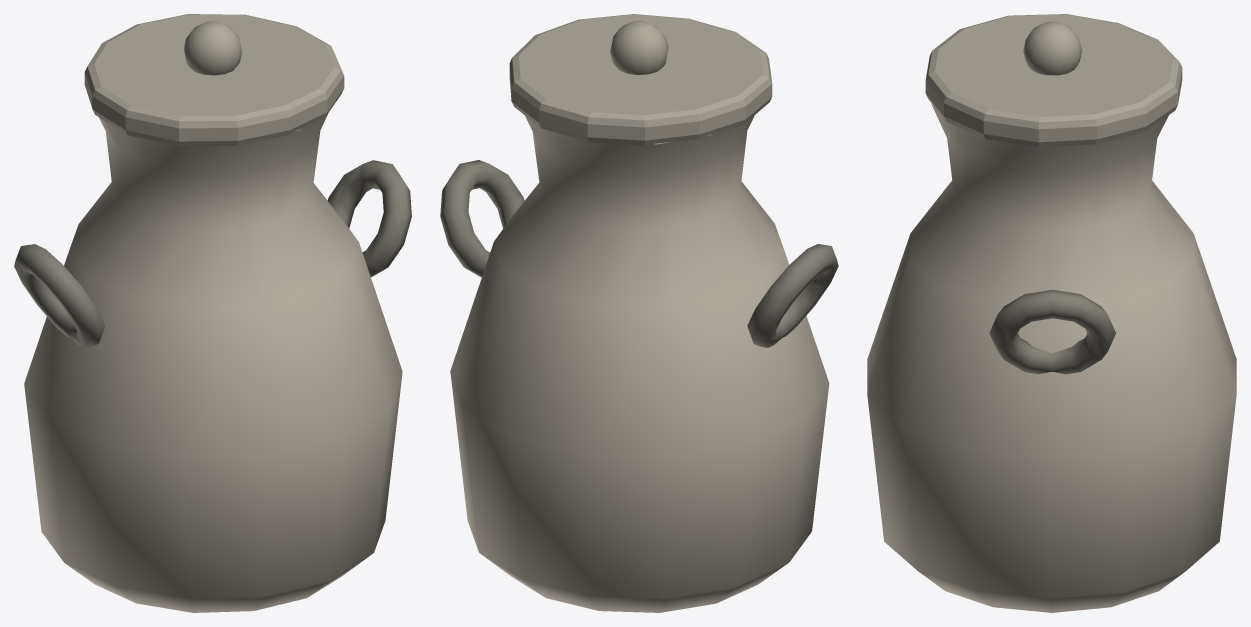
Rendered from prop_milk_churn.glb.
The picture shows the model from 3 angles, left to right: view 1: azimuth 30°, elevation 25°; view 2: azimuth 150°, elevation 25°; view 3: azimuth 270°, elevation 25°; orthographic projection.
Visible parts, largest first — view 1: churn_body, churn_lid, churn_handle_-1, churn_handle_1, churn_knob; view 2: churn_body, churn_lid, churn_handle_1, churn_handle_-1, churn_knob; view 3: churn_body, churn_lid, churn_handle_1, churn_knob.
Boxes of the visible parts, x1,y1,x2,y2 form: churn_body: [24, 114, 402, 612]; churn_lid: [84, 14, 344, 146]; churn_handle_-1: [14, 244, 105, 347]; churn_handle_1: [327, 160, 411, 277]; churn_knob: [184, 21, 241, 75]; churn_body: [450, 115, 829, 612]; churn_lid: [509, 14, 772, 145]; churn_handle_1: [440, 160, 524, 277]; churn_handle_-1: [747, 244, 838, 347]; churn_knob: [610, 20, 668, 74]; churn_body: [867, 103, 1236, 612]; churn_lid: [925, 14, 1182, 146]; churn_handle_1: [989, 289, 1115, 374]; churn_knob: [1023, 21, 1081, 75].
Size of the model in its own units: 0.6559 by 0.895 by 0.5644.
